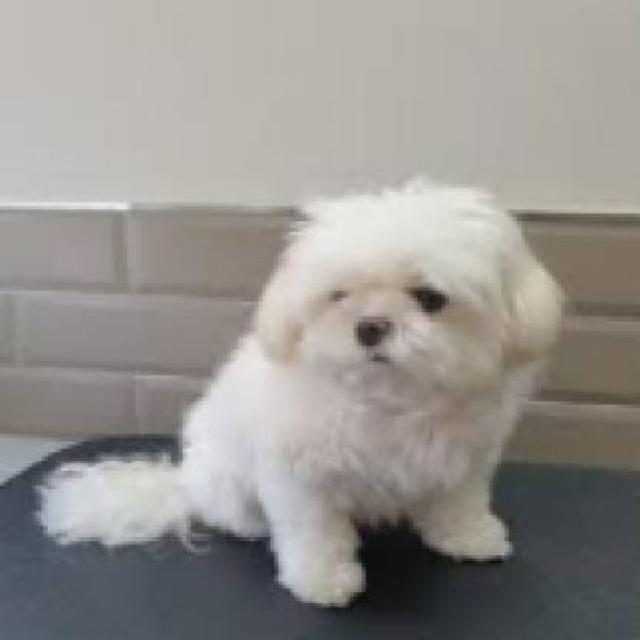Dog: (34, 171, 571, 617)
